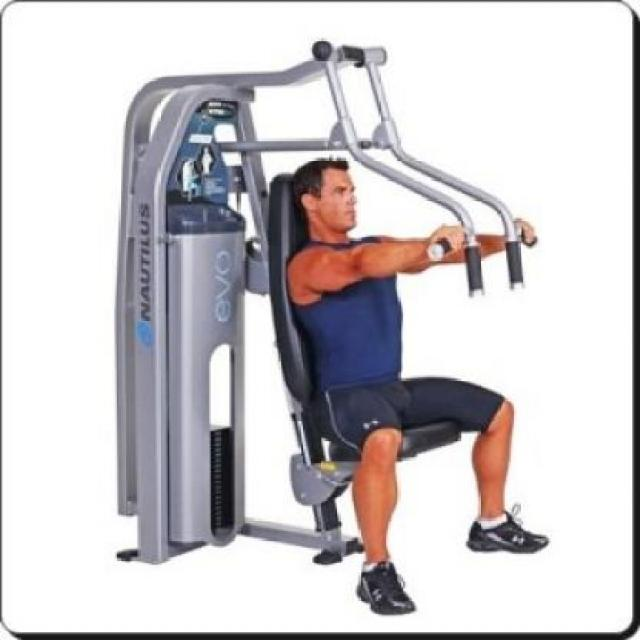Chest Press machine: (114, 36, 575, 618)
